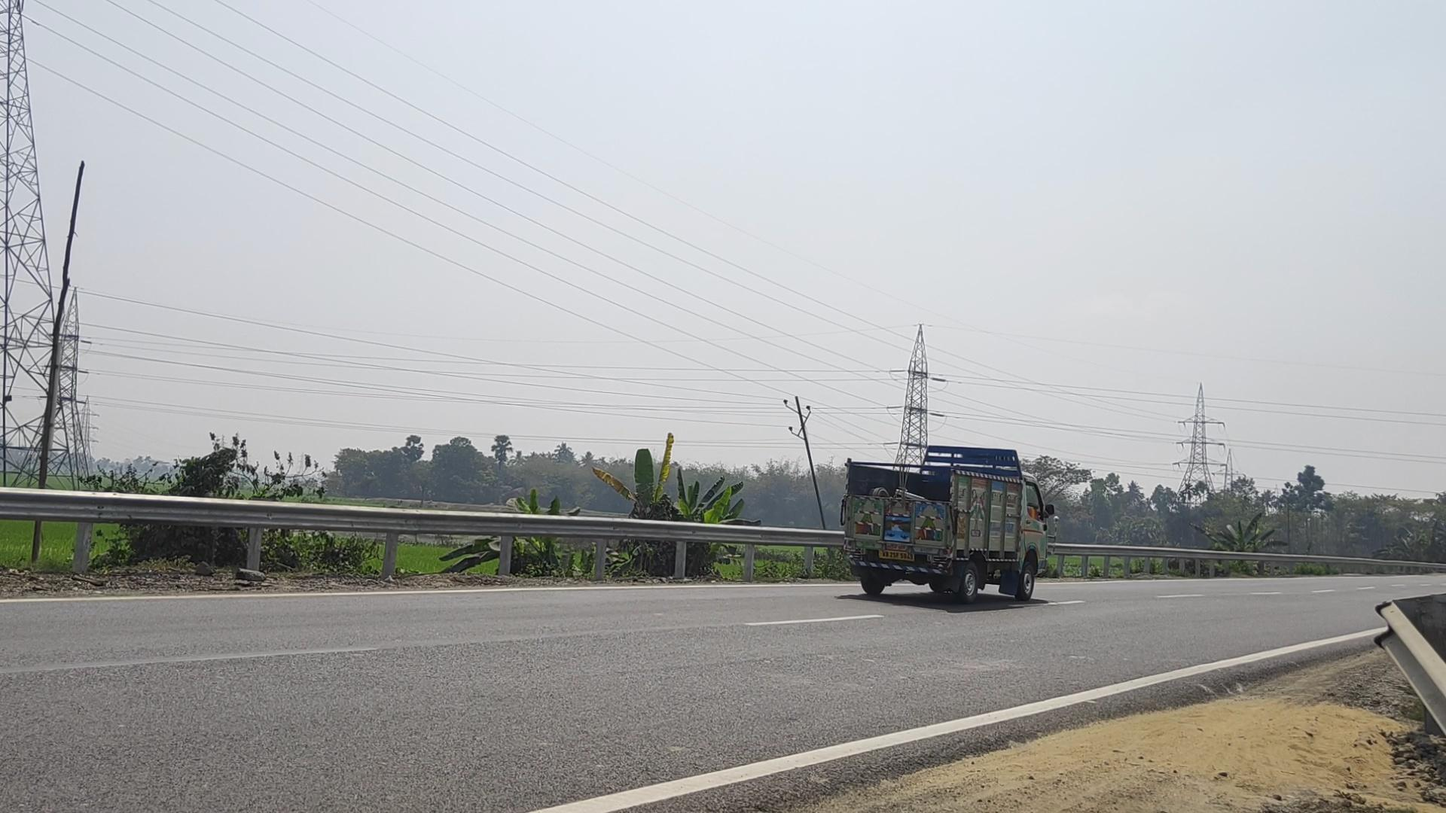van: (840, 446, 1059, 604)
